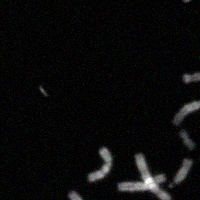chromosome: (135, 151, 171, 200), (118, 172, 165, 192), (87, 146, 112, 183), (173, 99, 200, 129), (169, 158, 191, 187), (178, 126, 194, 149), (68, 190, 98, 200), (181, 69, 200, 84), (180, 0, 200, 2)
